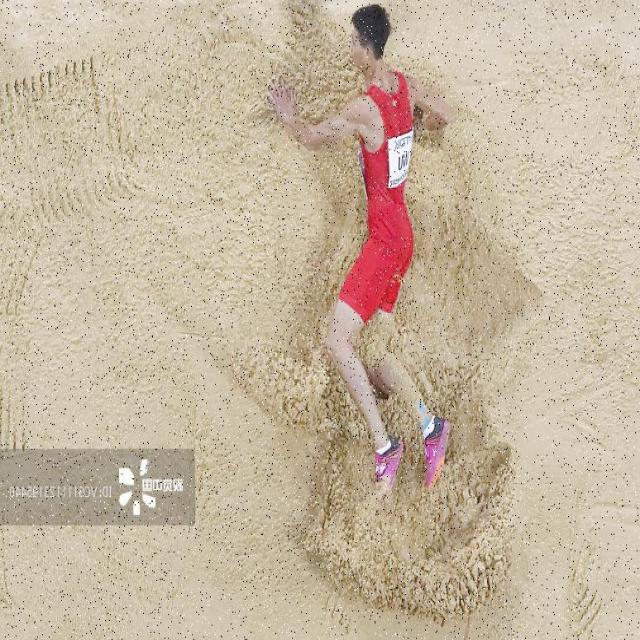fall: (272, 7, 452, 492)
